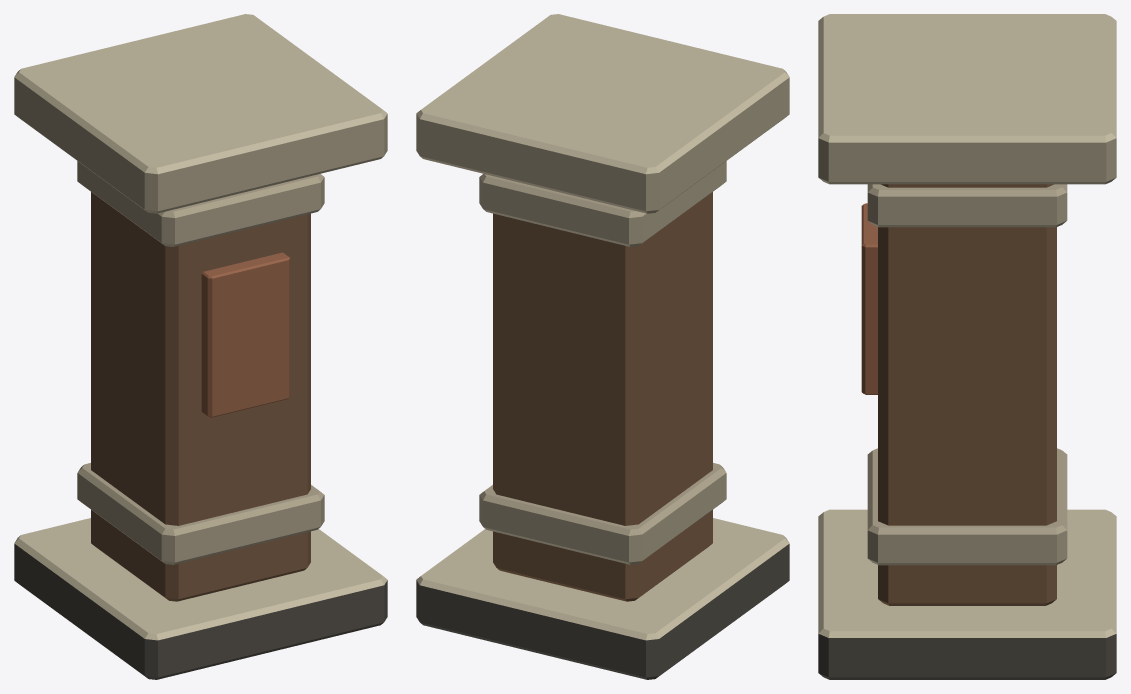
File: pillar-small.glb
3 renders of one model, left to right at view 1: azimuth 30°, elevation 25°; view 2: azimuth 150°, elevation 25°; view 3: azimuth 270°, elevation 25°, orthographic. The views are drawn at different scales.
Parts seen in each view (by area): view 1: pillar-small__body; view 2: pillar-small__body; view 3: pillar-small__body.
Boxes of the visible parts, x1=… form: pillar-small__body: x1=14, y1=14, x2=387, y2=679; pillar-small__body: x1=416, y1=14, x2=789, y2=679; pillar-small__body: x1=818, y1=14, x2=1116, y2=679.
Size of the model in its own units: 0.72 by 1.45 by 0.72.
